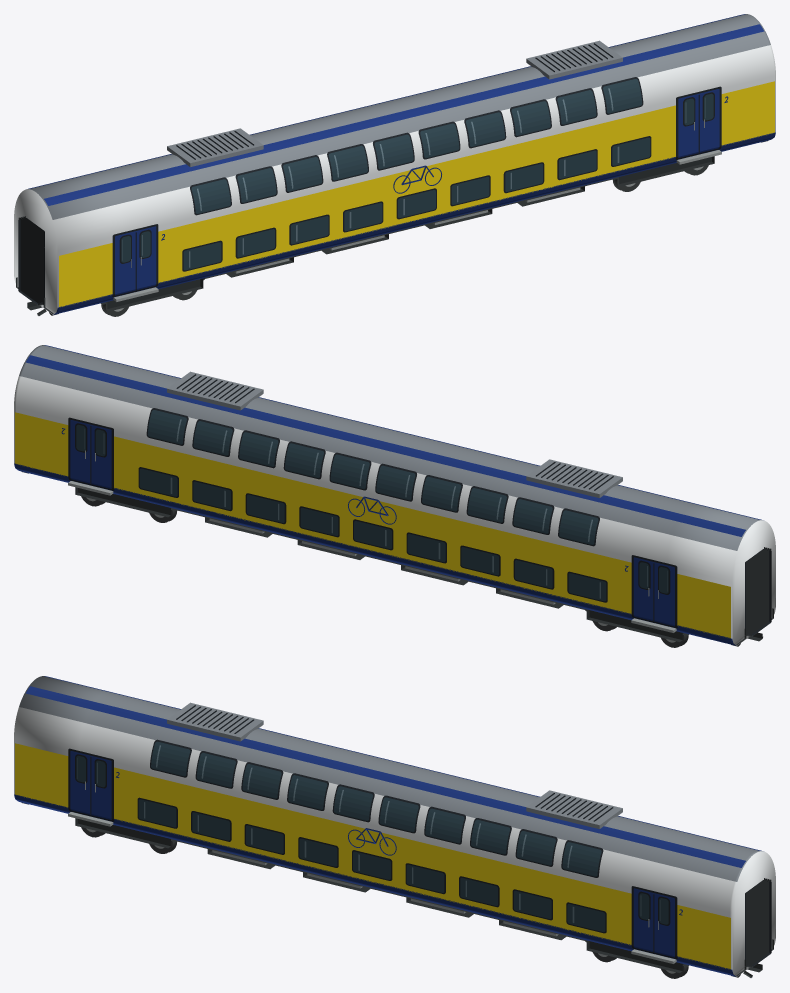
Rendered from metronom-bicycle.glb.
3 renders of one model, top to bottom at view 1: azimuth 30°, elevation 25°; view 2: azimuth 150°, elevation 25°; view 3: azimuth 330°, elevation 25°, orthographic.
Visible parts, largest first — view 1: bicycle_continuous_shell, bicycle_yellow_curve_-1, bicycle_blue_roof_edge_-1, bicycle_blue_sill_-1, bicycle_door_blue_-1_0, bicycle_hvac_0, bicycle_hvac_1, bicycle_door_blue_-1_1, bicycle_bellows_-1_3, bicycle_upper_-1_4_pane, bicycle_upper_-1_0_pane, bicycle_upper_-1_1_pane (+22 smaller); view 2: bicycle_continuous_shell, bicycle_yellow_curve_1, bicycle_blue_roof_edge_1, bicycle_blue_sill_1, bicycle_door_blue_1_0, bicycle_hvac_0, bicycle_hvac_1, bicycle_door_blue_1_1, bicycle_bellows_-1_3, bicycle_bogie_0, bicycle_bogie_1, bicycle_upper_1_4_pane (+22 smaller); view 3: bicycle_continuous_shell, bicycle_yellow_curve_-1, bicycle_blue_roof_edge_-1, bicycle_blue_sill_-1, bicycle_door_blue_-1_1, bicycle_hvac_0, bicycle_hvac_1, bicycle_door_blue_-1_0, bicycle_bellows_1_3, bicycle_upper_-1_6_pane, bicycle_upper_-1_9_pane, bicycle_upper_-1_0_pane (+22 smaller).
Part boxes in pixels (bbox=[...]): bicycle_continuous_shell: bbox=[14, 14, 775, 314]; bicycle_yellow_curve_-1: bbox=[59, 81, 774, 307]; bicycle_blue_roof_edge_-1: bbox=[44, 24, 764, 205]; bicycle_blue_sill_-1: bbox=[58, 132, 774, 311]; bicycle_door_blue_-1_0: bbox=[115, 226, 156, 295]; bicycle_hvac_0: bbox=[167, 128, 263, 166]; bicycle_hvac_1: bbox=[526, 40, 622, 79]; bicycle_door_blue_-1_1: bbox=[678, 89, 719, 157]; bicycle_bellows_-1_3: bbox=[18, 217, 39, 305]; bicycle_upper_-1_4_pane: bbox=[374, 134, 413, 169]; bicycle_upper_-1_0_pane: bbox=[191, 179, 230, 213]; bicycle_upper_-1_1_pane: bbox=[237, 168, 276, 202]; bicycle_continuous_shell: bbox=[14, 345, 775, 645]; bicycle_yellow_curve_1: bbox=[15, 412, 730, 638]; bicycle_blue_roof_edge_1: bbox=[25, 355, 745, 536]; bicycle_blue_sill_1: bbox=[15, 463, 731, 642]; bicycle_door_blue_1_0: bbox=[633, 557, 674, 626]; bicycle_hvac_0: bbox=[526, 459, 622, 497]; bicycle_hvac_1: bbox=[167, 371, 263, 410]; bicycle_door_blue_1_1: bbox=[70, 420, 111, 488]; bicycle_bellows_-1_3: bbox=[750, 548, 771, 636]; bicycle_bogie_0: bbox=[586, 609, 688, 647]; bicycle_bogie_1: bbox=[75, 487, 176, 522]; bicycle_upper_1_4_pane: bbox=[376, 465, 415, 500]; bicycle_continuous_shell: bbox=[14, 676, 775, 976]; bicycle_yellow_curve_-1: bbox=[15, 743, 730, 969]; bicycle_blue_roof_edge_-1: bbox=[25, 686, 745, 867]; bicycle_blue_sill_-1: bbox=[15, 794, 731, 973]; bicycle_door_blue_-1_1: bbox=[633, 888, 674, 957]; bicycle_hvac_0: bbox=[167, 702, 263, 741]; bicycle_hvac_1: bbox=[526, 790, 622, 828]; bicycle_door_blue_-1_0: bbox=[70, 751, 111, 819]; bicycle_bellows_1_3: bbox=[750, 879, 771, 967]; bicycle_upper_-1_6_pane: bbox=[425, 808, 464, 843]; bicycle_upper_-1_9_pane: bbox=[562, 842, 601, 876]; bicycle_upper_-1_0_pane: bbox=[151, 741, 190, 776].
Bounding box in the file's own units: 27 × 4.78 × 3.08.
